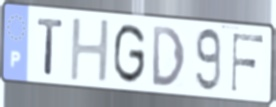9: (192, 27, 224, 96)
D: (151, 24, 187, 89)
F: (229, 31, 266, 95)
G: (111, 22, 148, 87)
H: (68, 17, 112, 84)
T: (36, 16, 66, 78)
